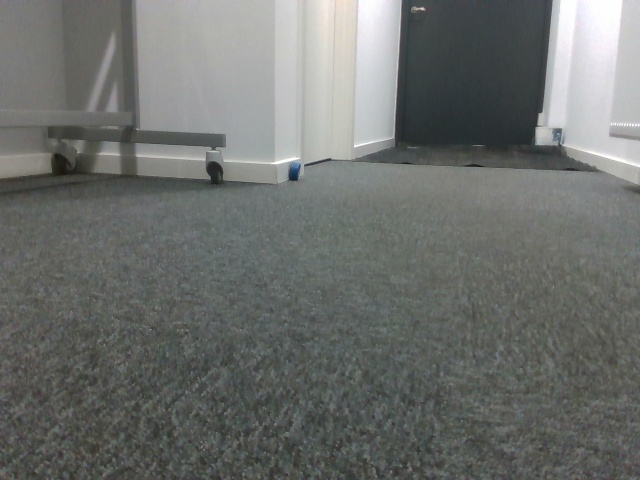alfa: (286, 161, 302, 180)
